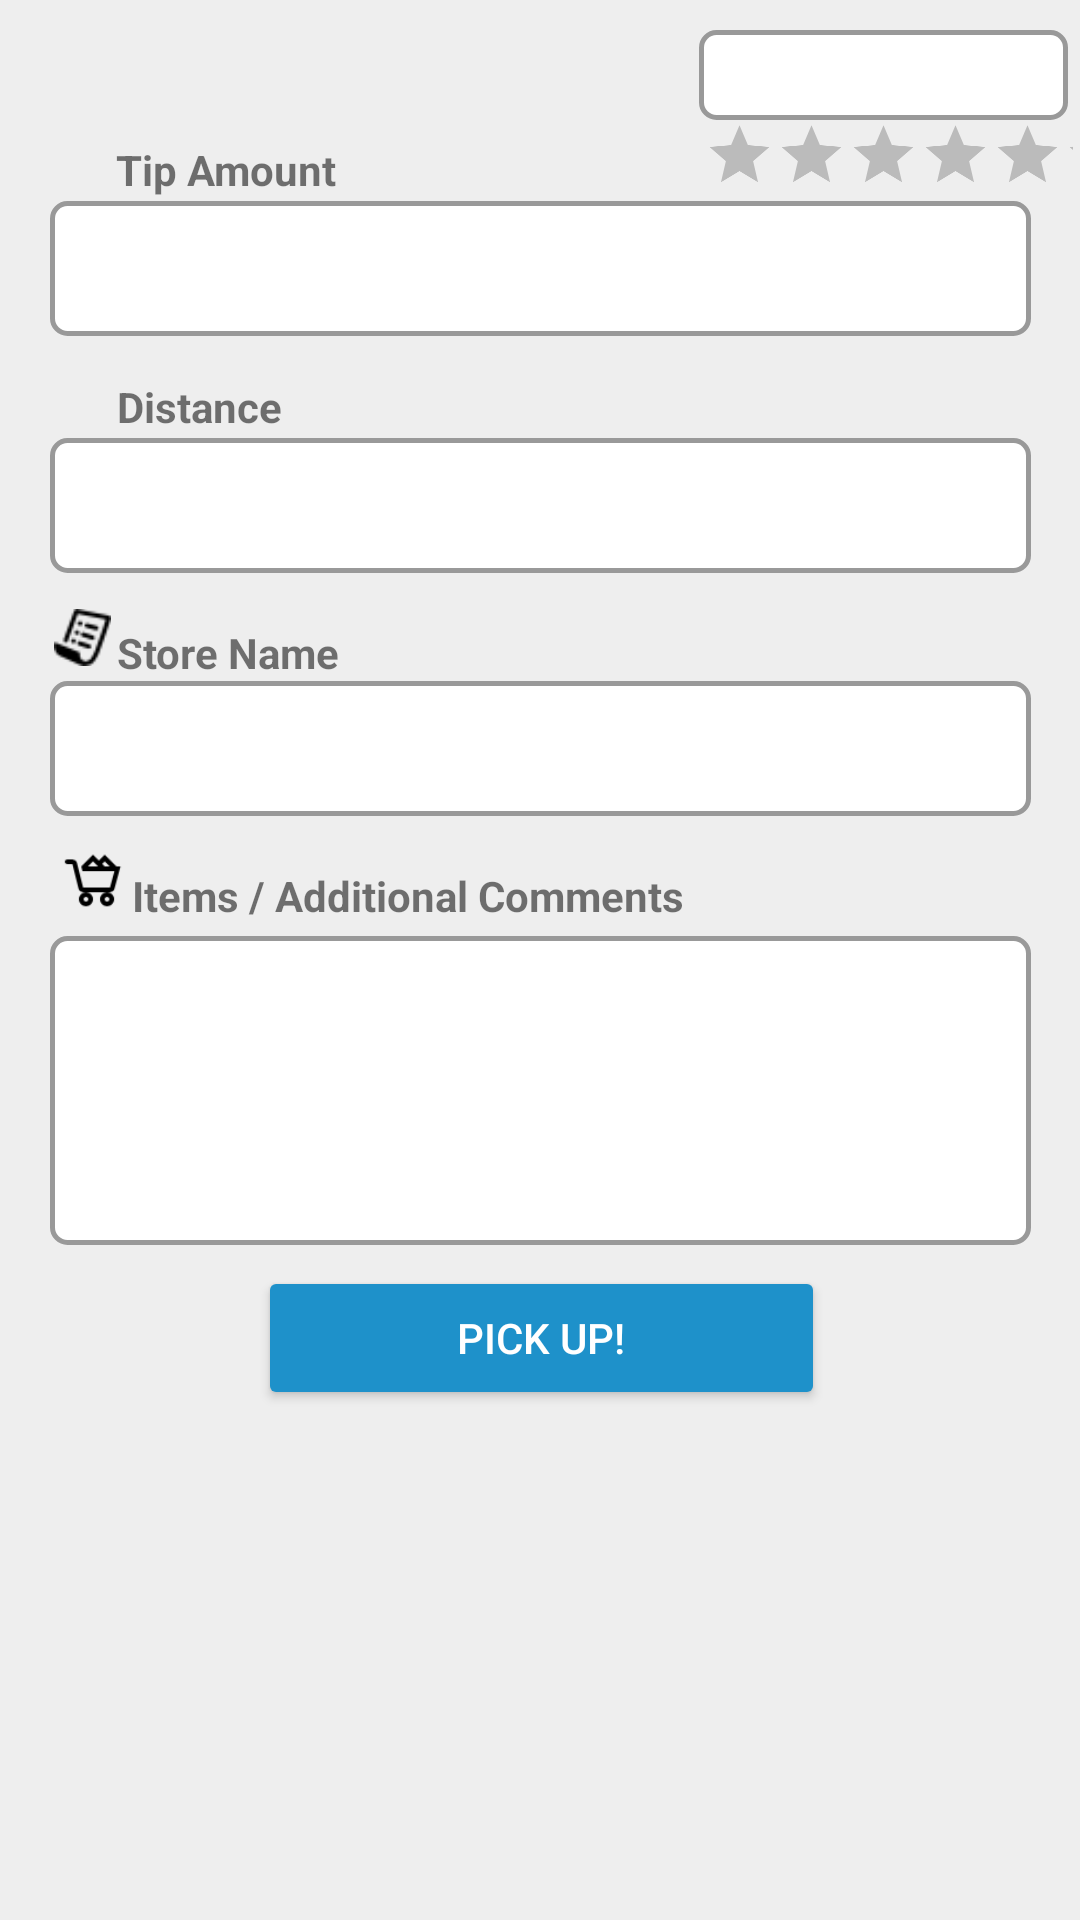

Where icons sit on this 1080w x 1920h app screen, as [x1, y1, x2, y2]:
shoppingcart: [64, 854, 138, 912]
